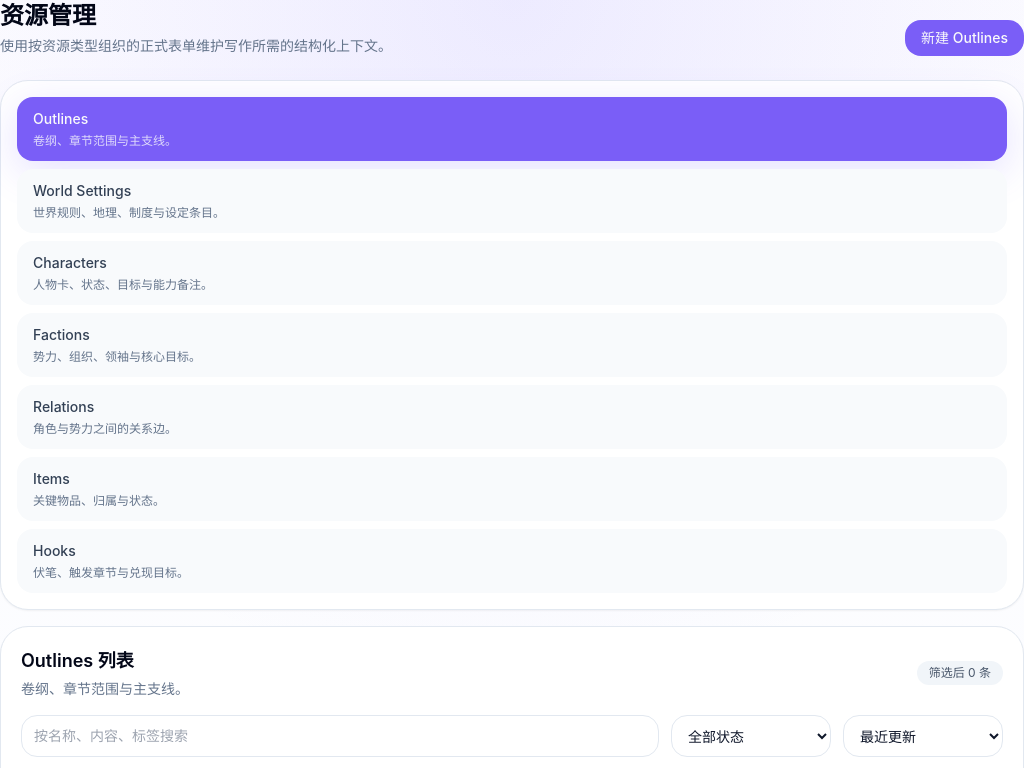
Test: ResourcesPage › uses enum select for character status in resource editor
Click the button "Characters 人物卡、状态、目标与能力备注。" at [70, 262], box [17,241,1007,305]
(page scrolled)
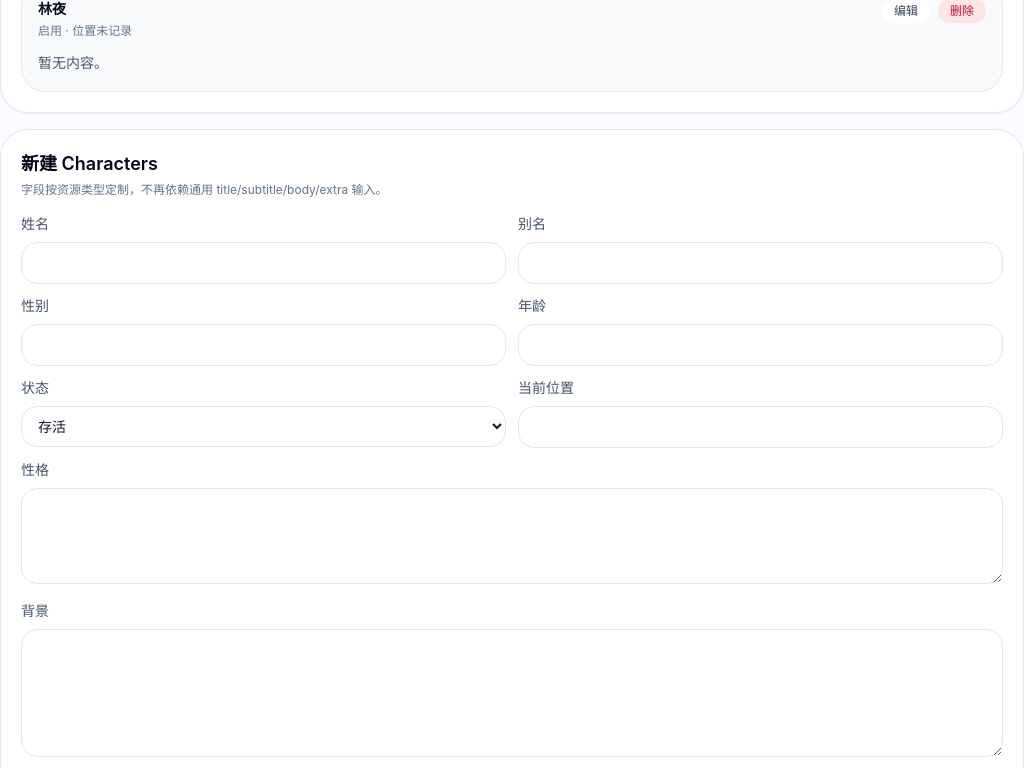
Result: the dropdown labelled "状态" shows "存活" at [21,406,506,447]
